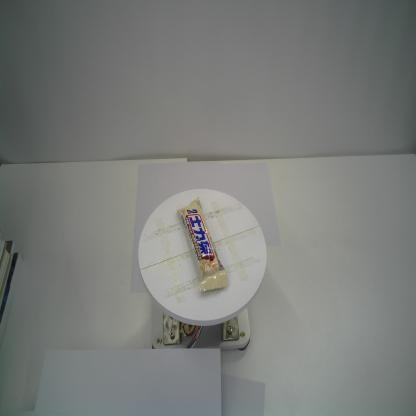Chocolate: (176, 194, 231, 296)
